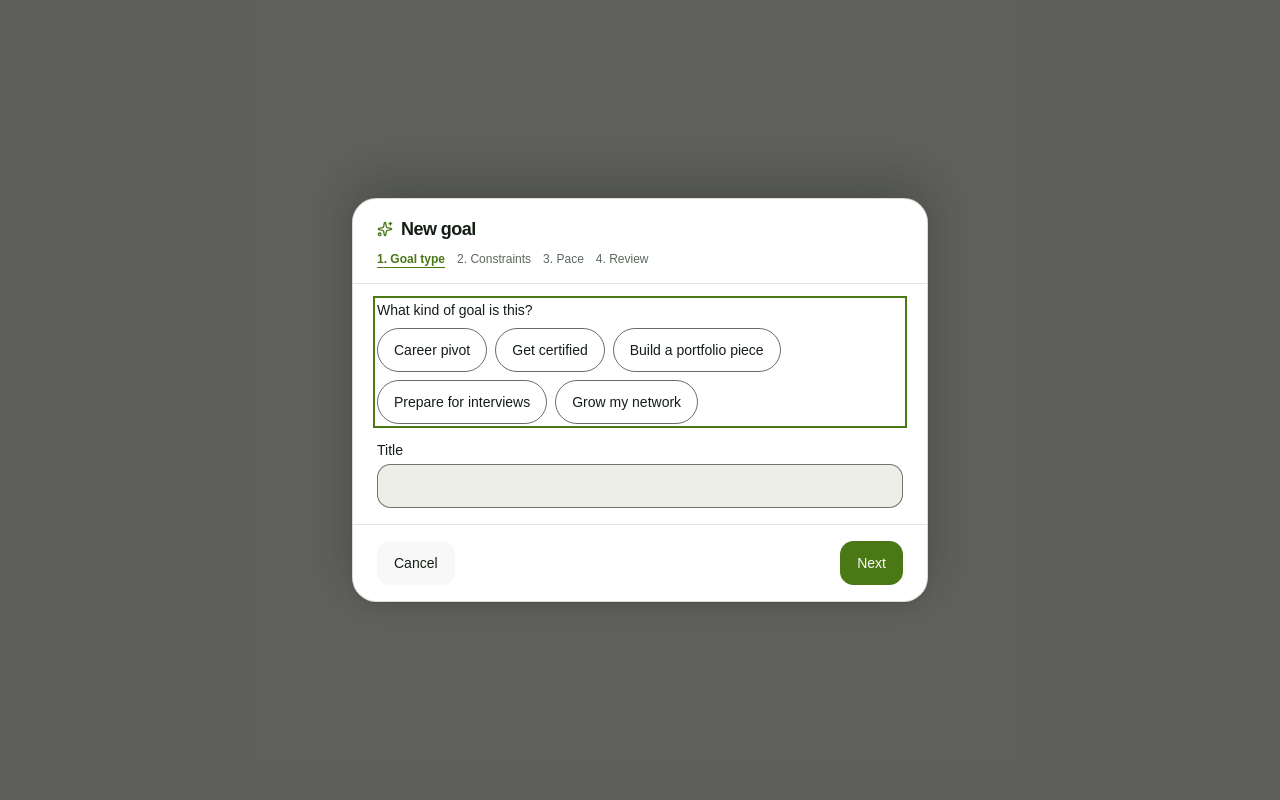
Test case: the steps › the missing-plan callout goes once the person makes a plan, so it never says "make a plan" beside one (MOM-145)
Click the button "Get certified".
click(550, 350)  # box [495,328,605,372]
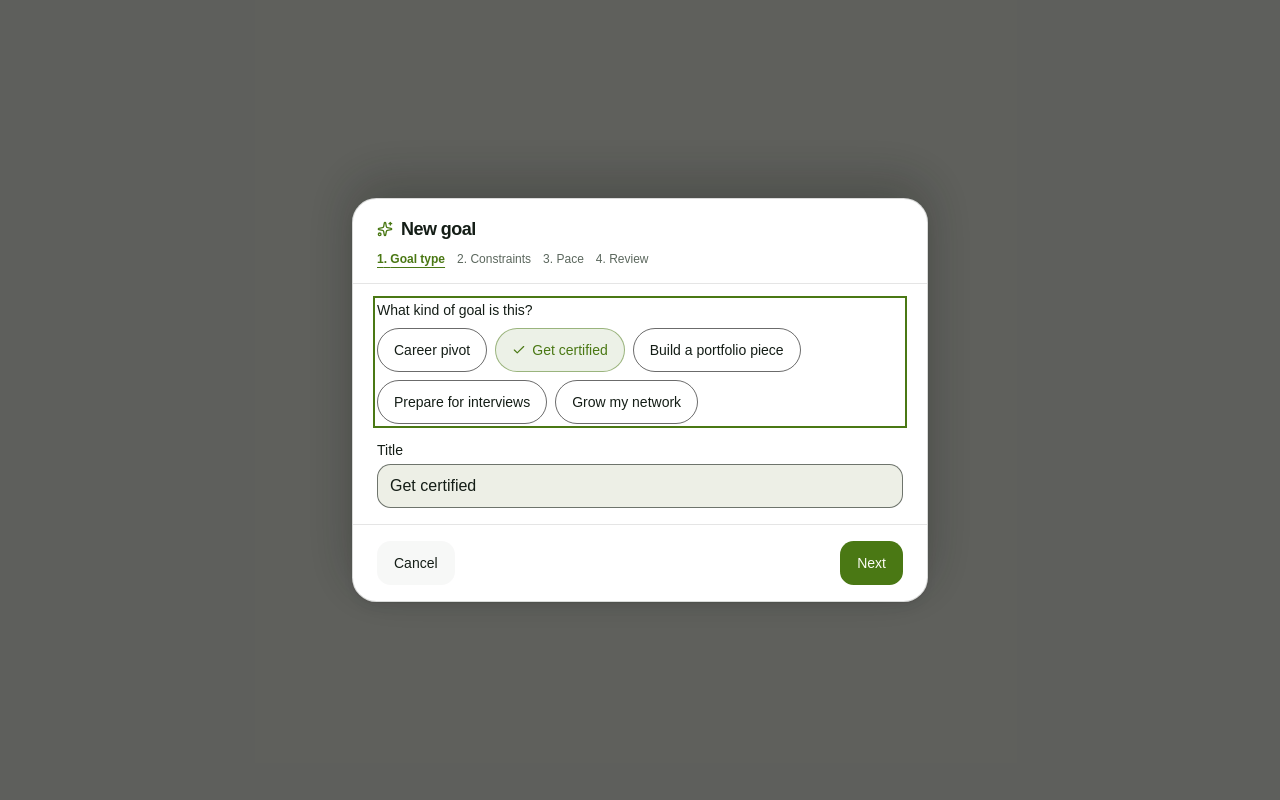
Click the button "Next".
click(872, 563)  # box [840,541,903,585]
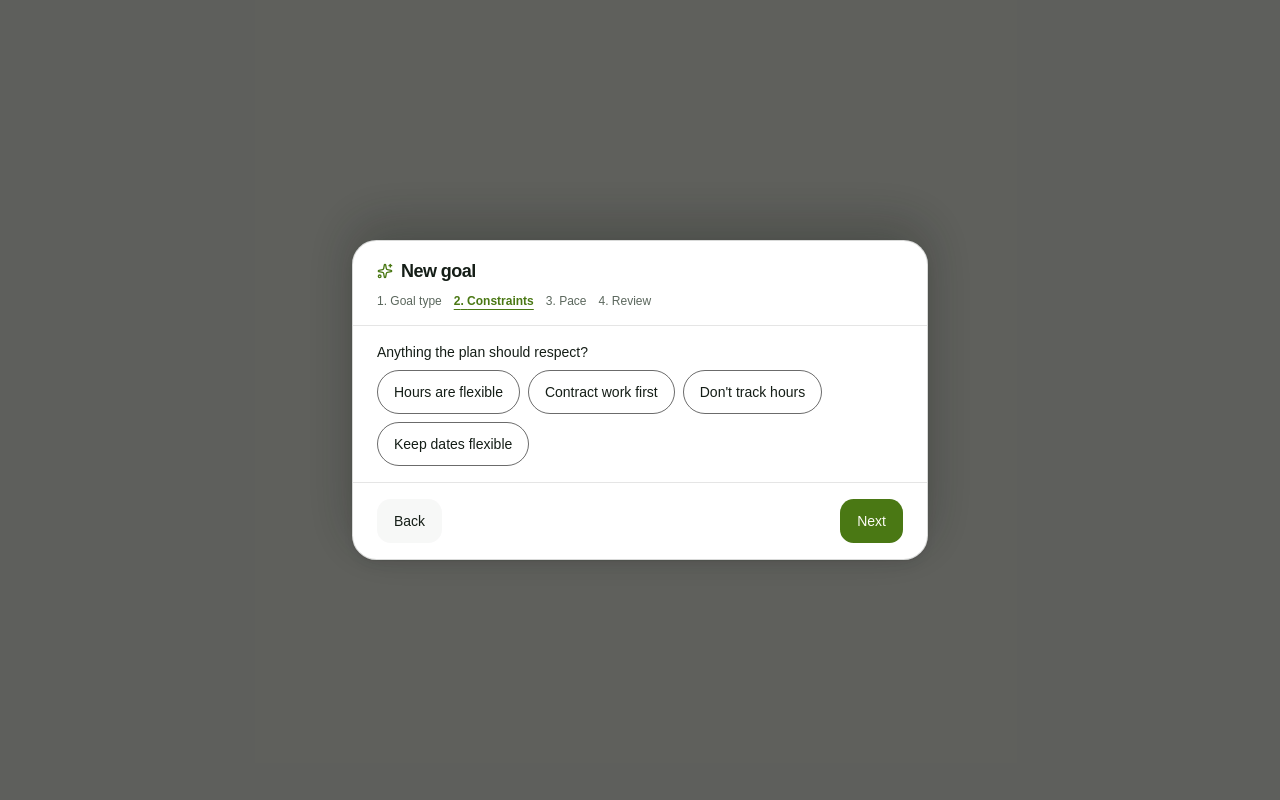
Click the button "Next".
click(872, 521)  # box [840,499,903,543]
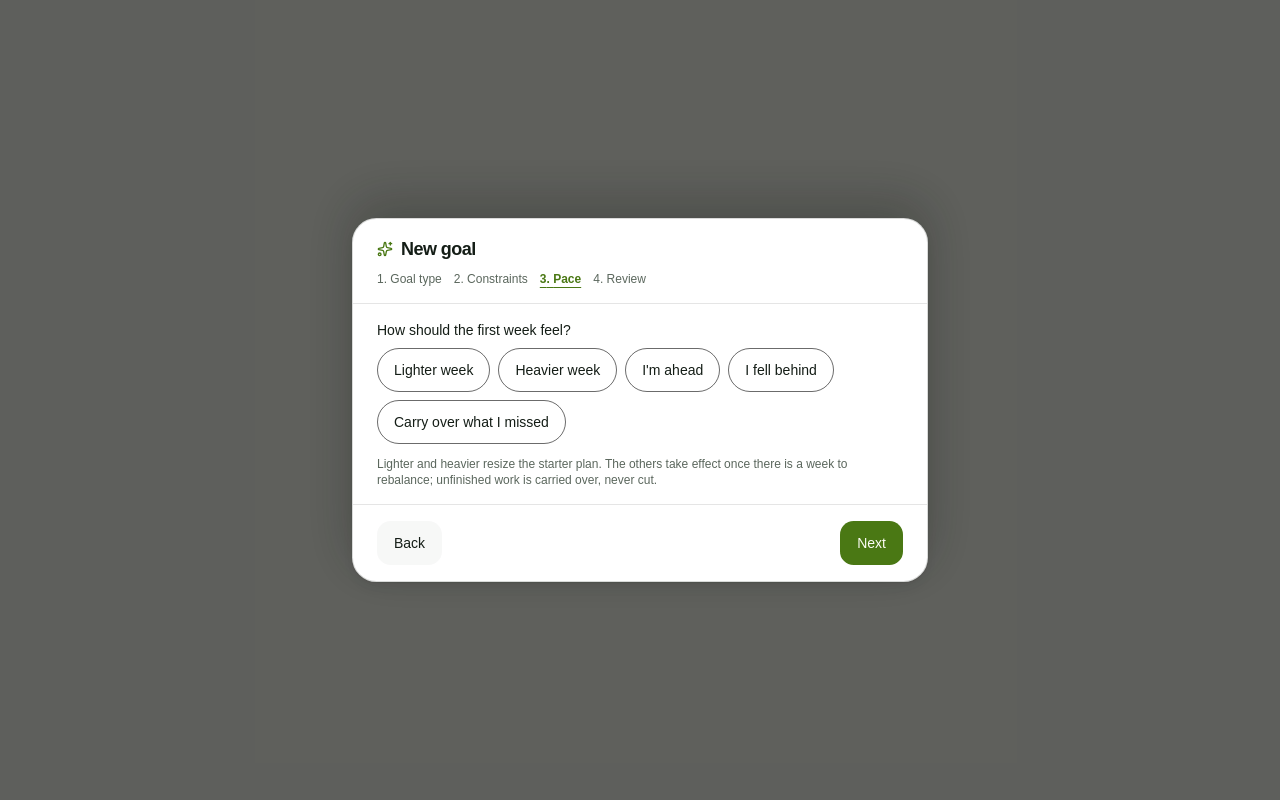
Click the button "Next".
click(872, 543)  # box [840,521,903,565]
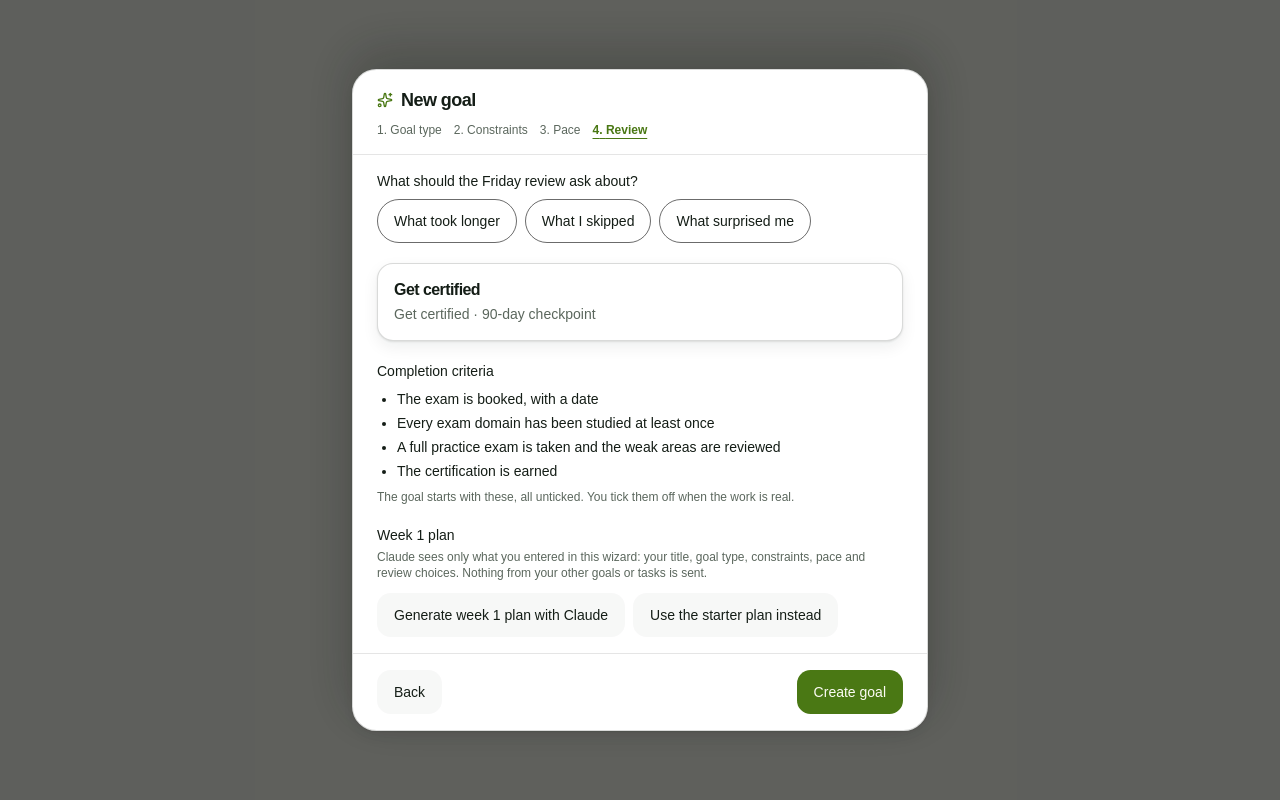
Click the button "Create goal".
click(850, 692)  # box [797,670,903,714]
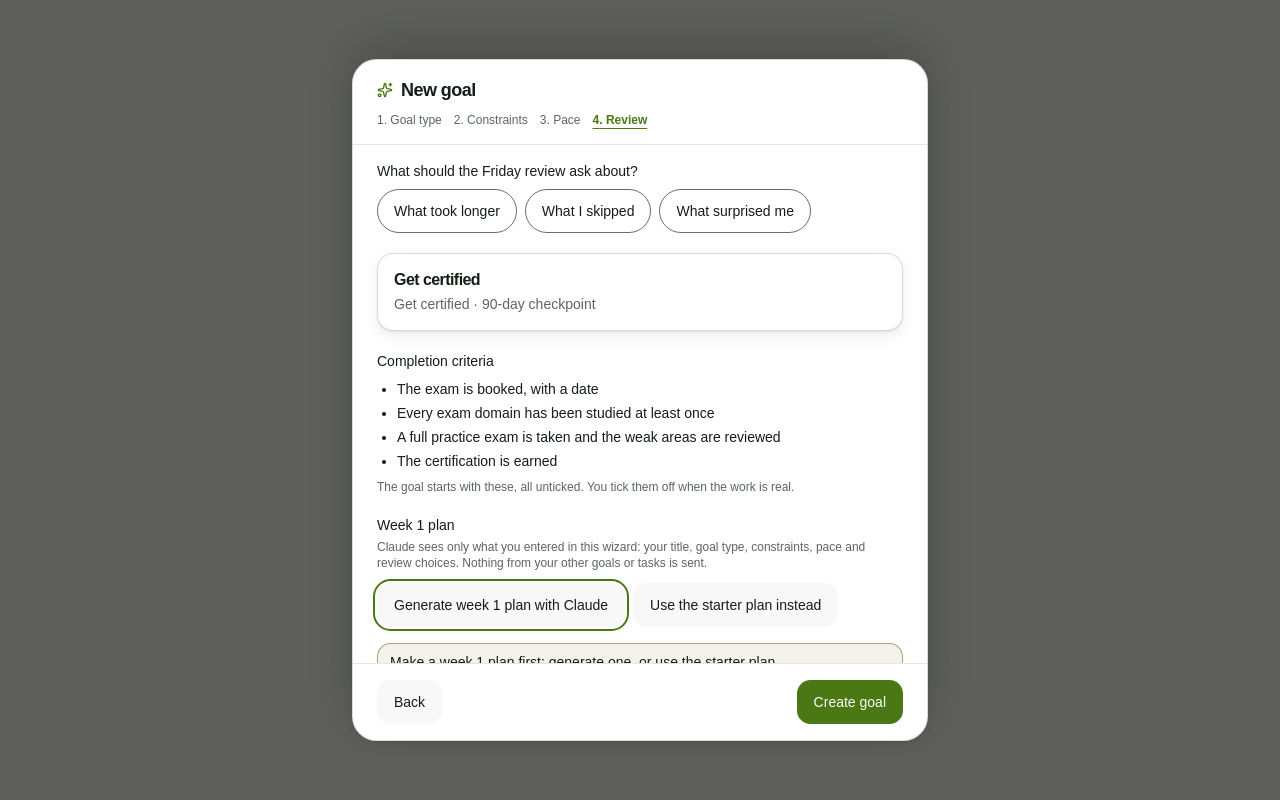
Expected: the button "Use the starter plan instead" is enabled
Click the button "Use the starter plan instead".
click(736, 605)  # box [633,583,838,627]
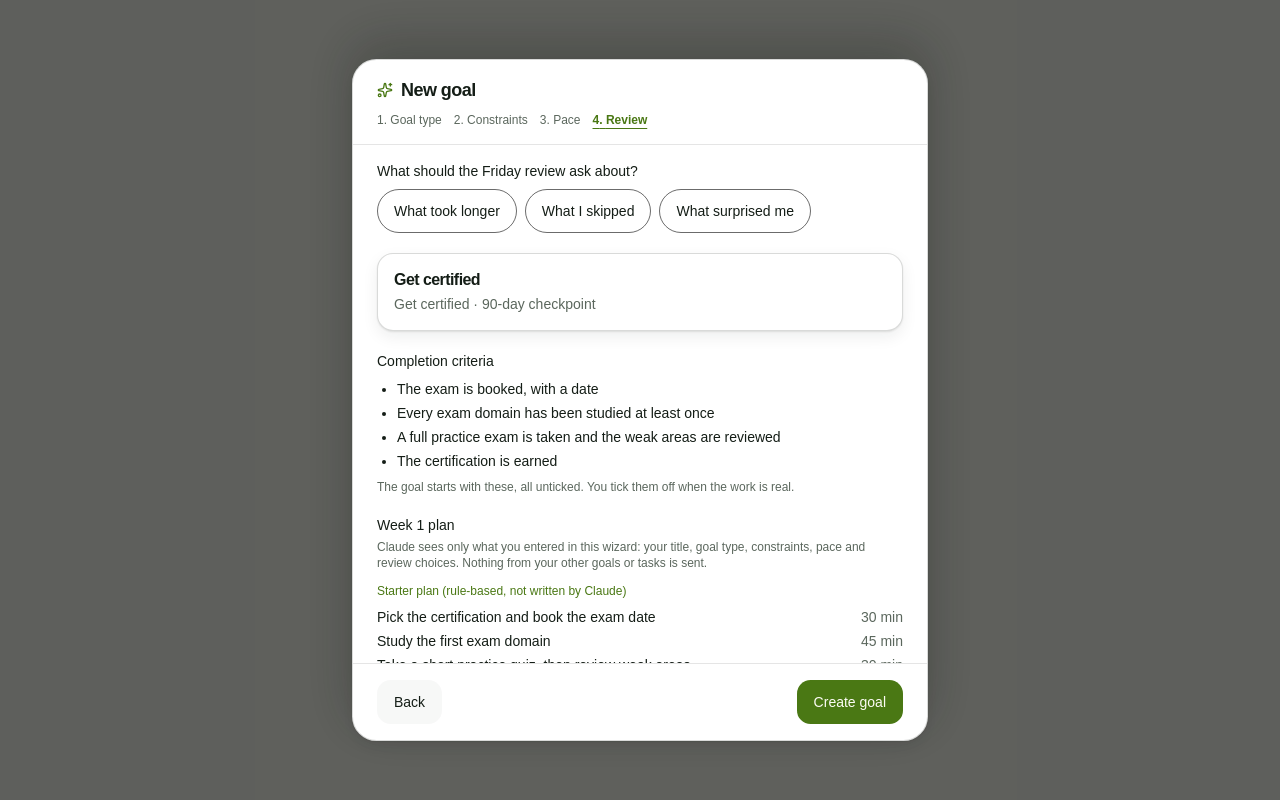
Expected: the text "Make a week 1 plan first: generate one, or use the starter plan." is gone
Expected: the message "Make a week 1 plan first: generate one, or use the starter plan." is gone
